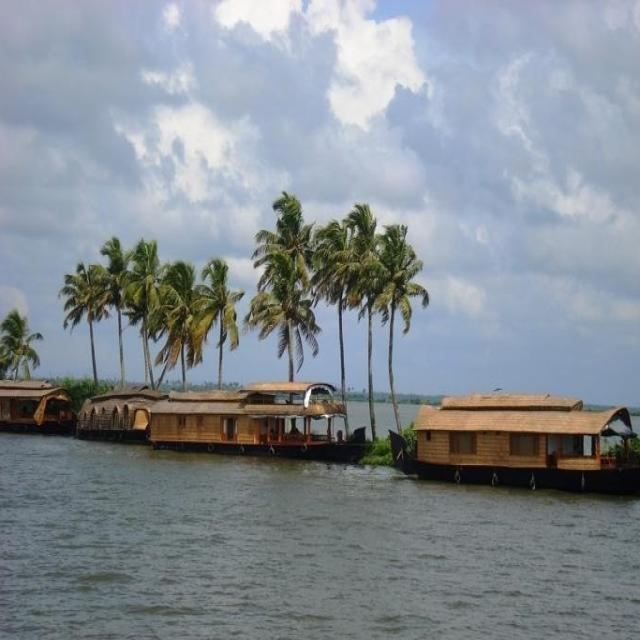Hyacinth: (365, 434, 382, 471)
boat: (384, 408, 624, 492), (142, 398, 364, 460), (79, 396, 148, 446), (2, 412, 72, 440)
